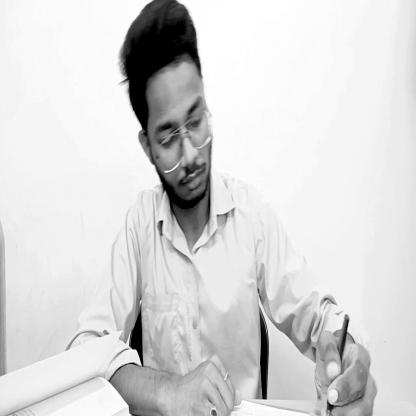Distracted: (119, 2, 218, 218)
